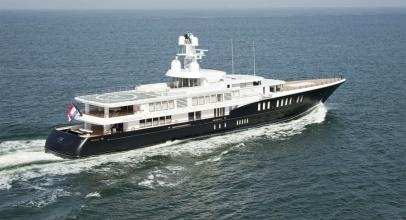yacht: (49, 25, 346, 156)
